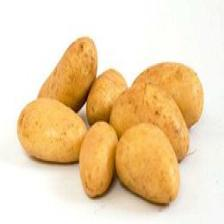Potato: (113, 119, 181, 206), (16, 95, 89, 169), (78, 117, 119, 202)
